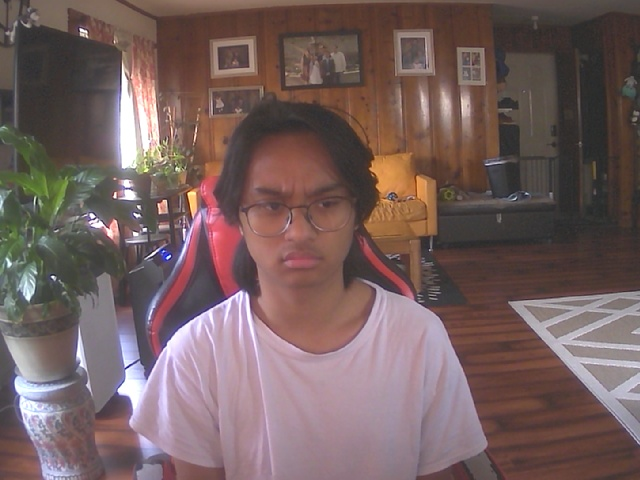anger: (237, 111, 370, 293)
